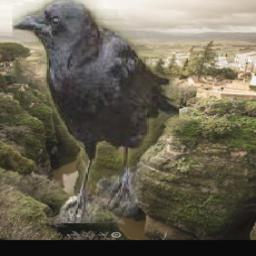Crow: (12, 0, 179, 223)
